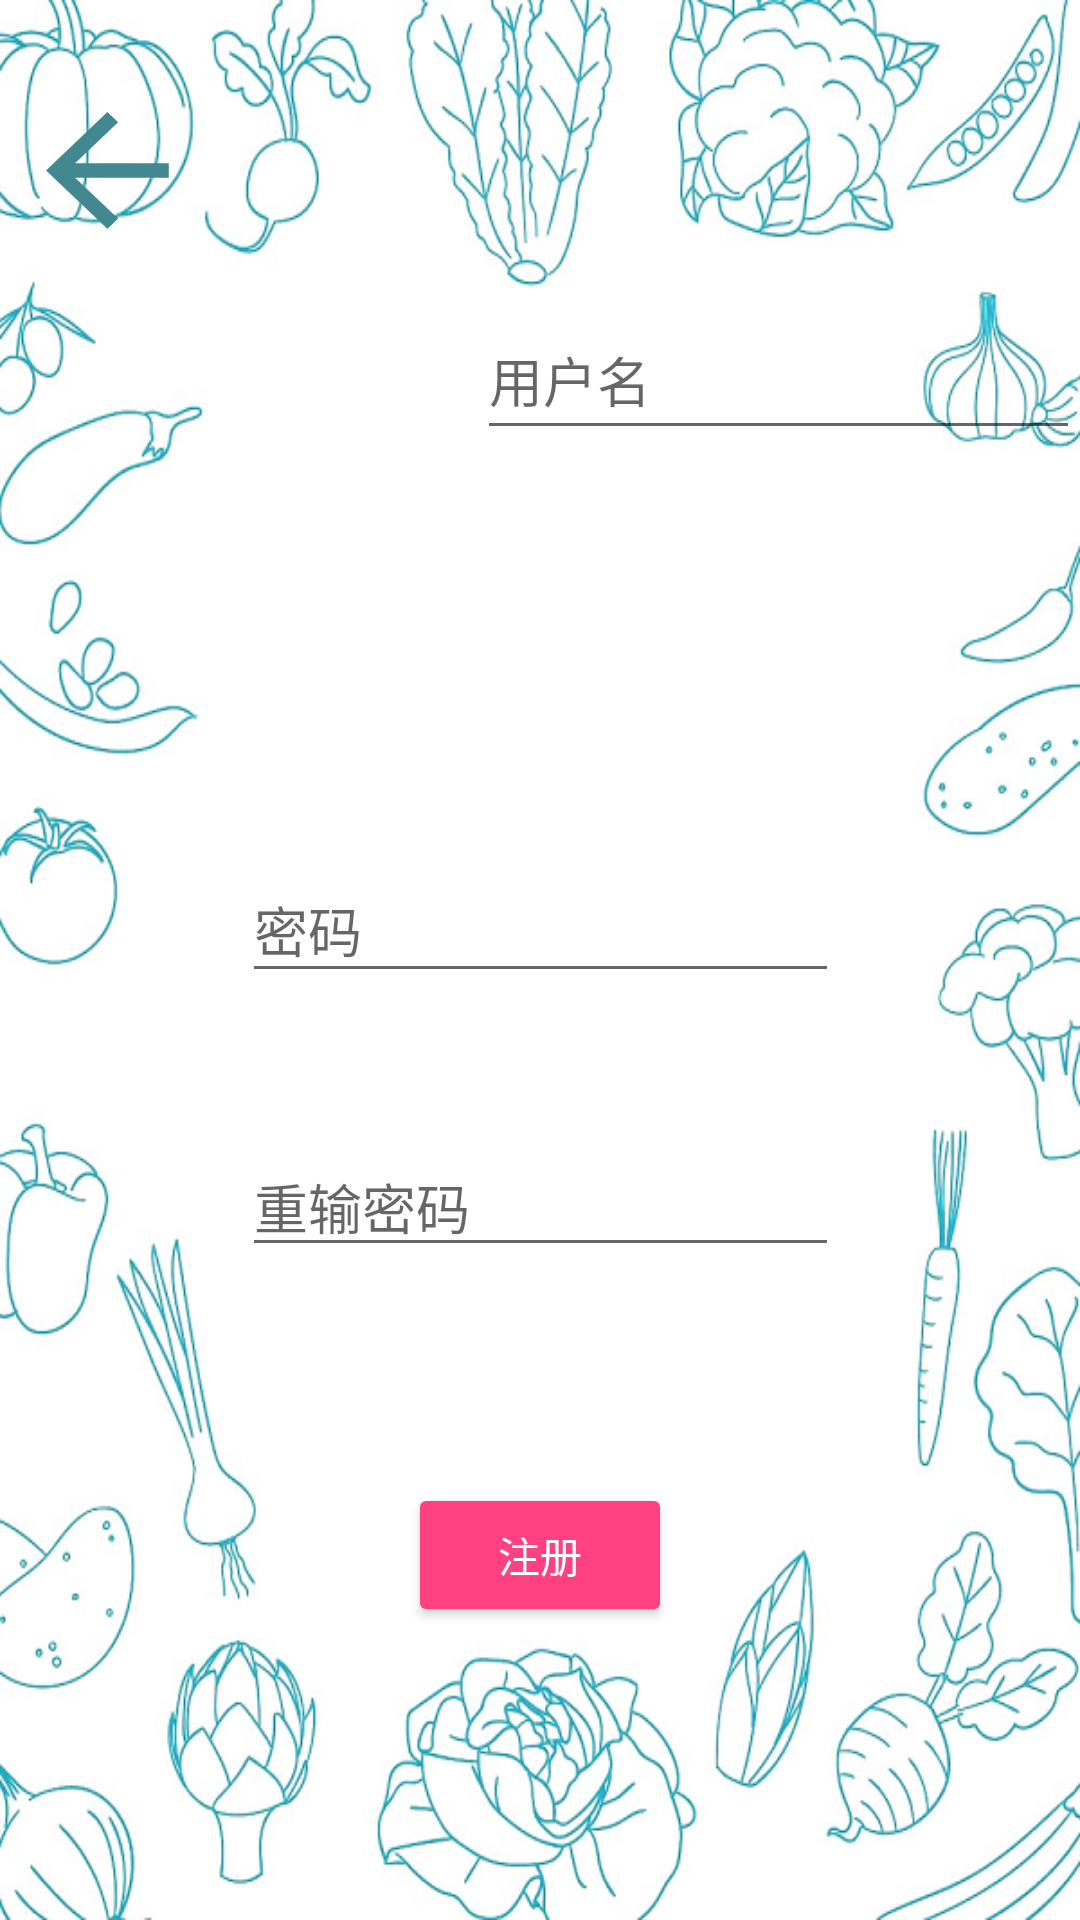

Screen size 1080*1920. Icon name, then its center in pixels as (x,y):
backbtn: (107,170)
